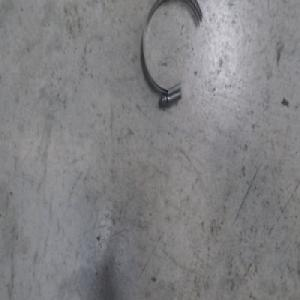AdjustableClamp: (140, 0, 203, 107)
